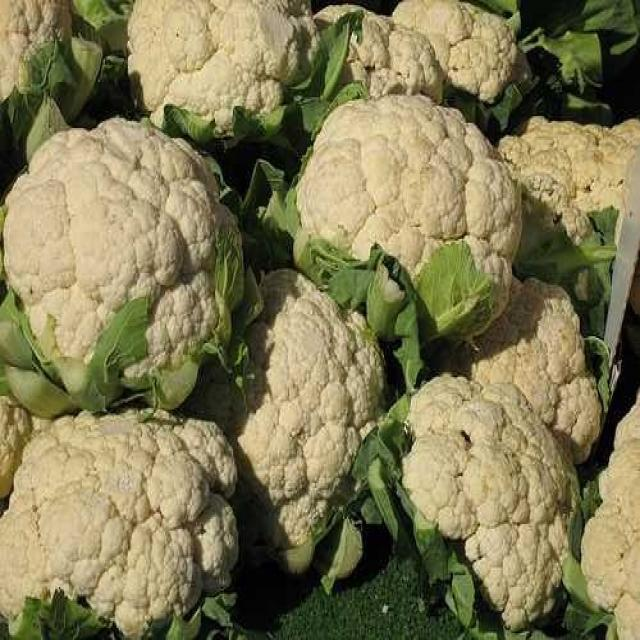cauliflower: (0, 0, 640, 640), (0, 368, 292, 640), (334, 347, 588, 640), (0, 119, 250, 415), (284, 88, 544, 338), (211, 263, 408, 564), (107, 0, 360, 171)
